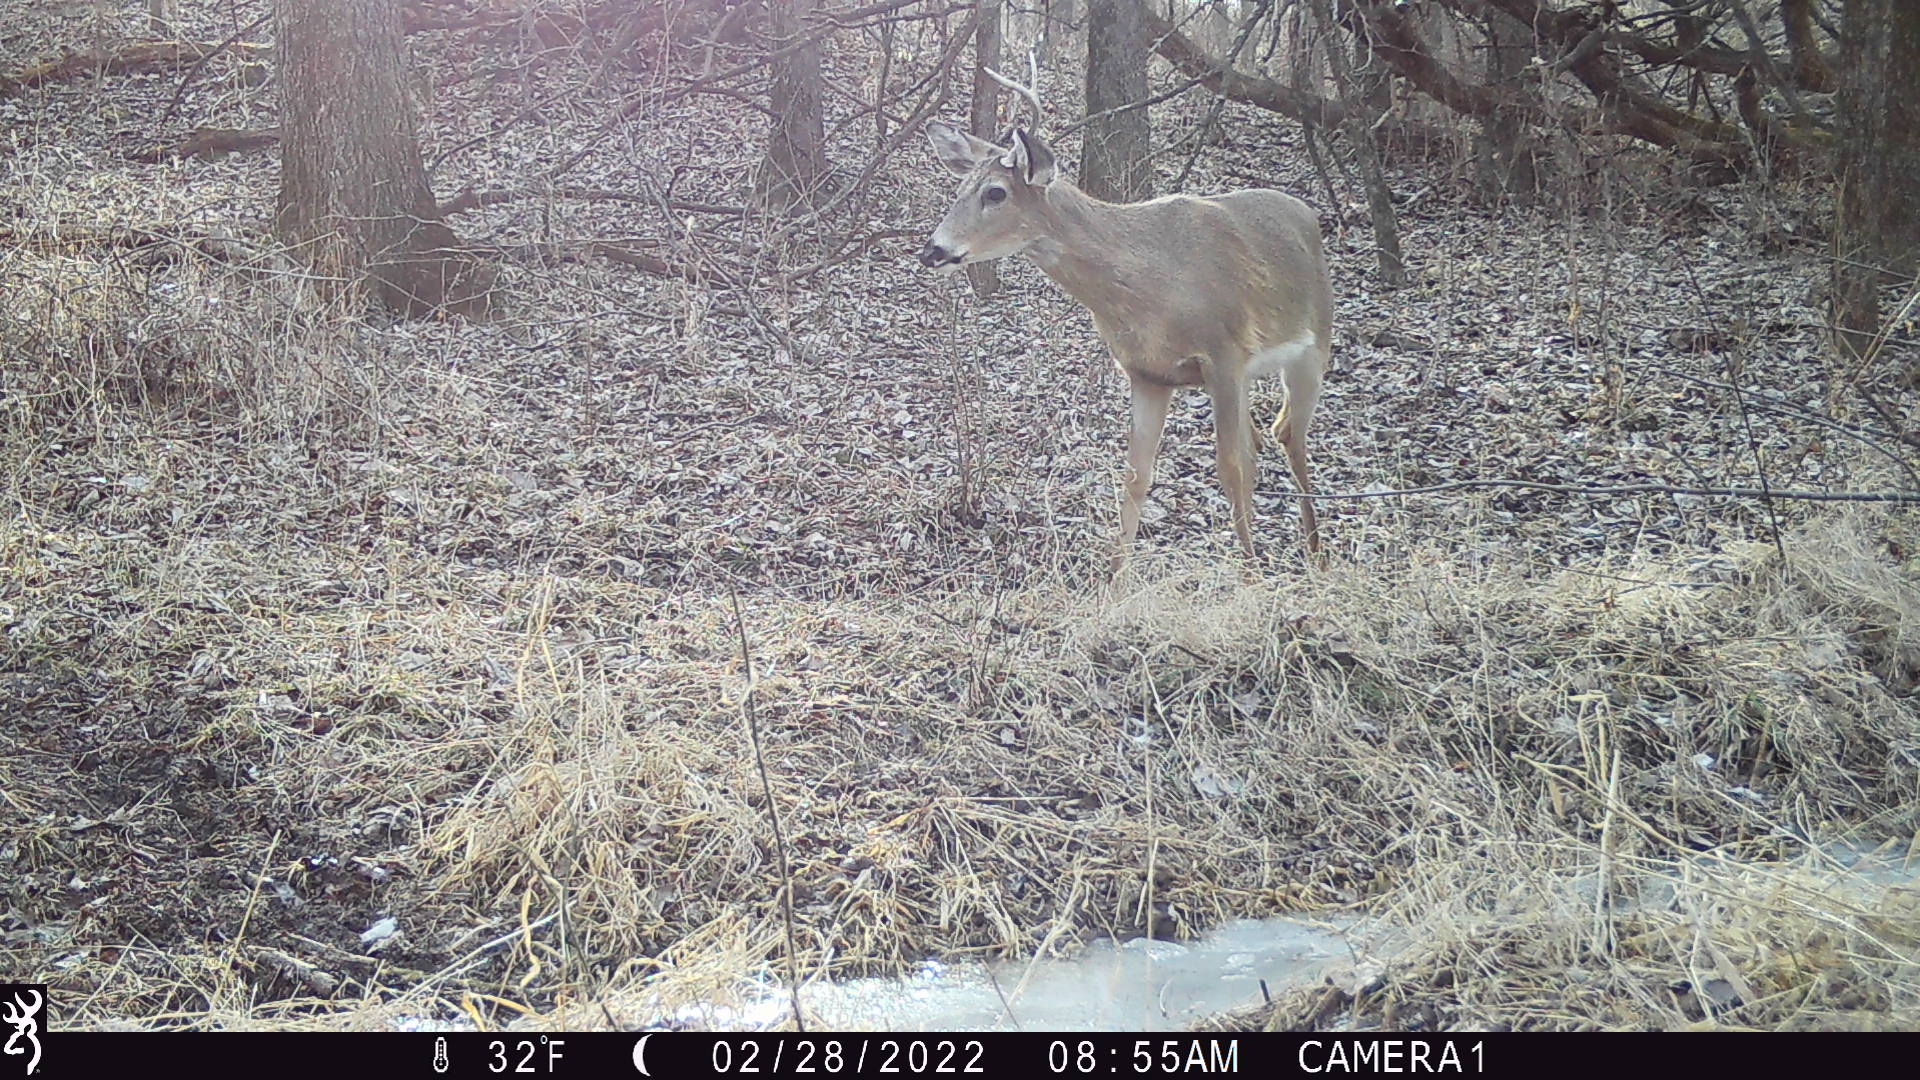DeerBuck: (917, 47, 1331, 571)
DeerBuckHead: (915, 47, 1061, 279)
